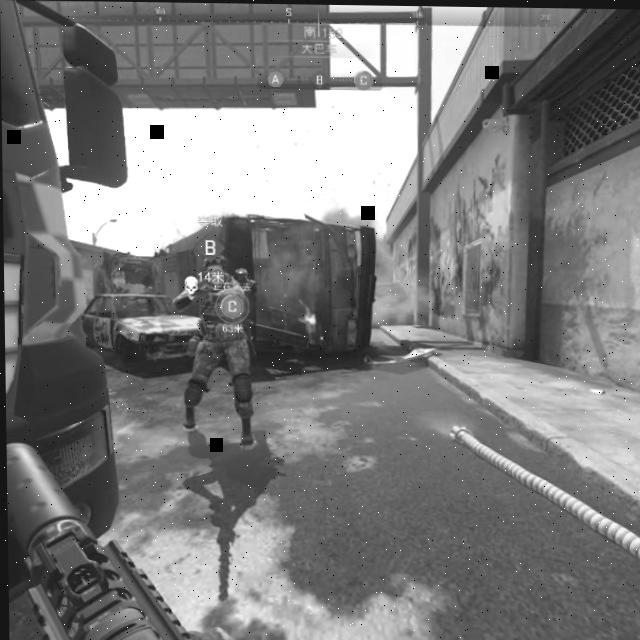MW2_body: (176, 256, 256, 445)
